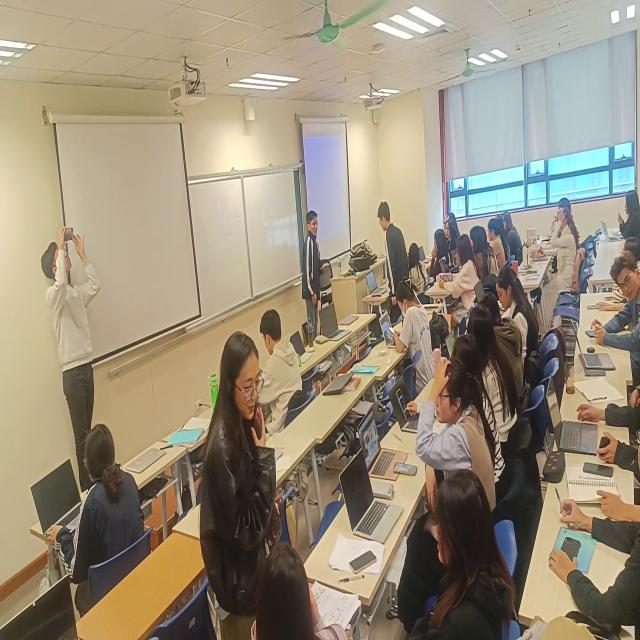raise_head: (414, 466, 515, 640), (421, 344, 500, 512), (256, 536, 329, 640), (468, 304, 518, 437), (553, 208, 578, 298), (470, 227, 489, 283), (502, 210, 521, 262), (430, 227, 450, 275), (445, 219, 459, 251), (448, 213, 457, 223)
stand: (198, 325, 276, 613), (37, 217, 102, 465), (299, 205, 328, 348), (378, 198, 410, 311)
using_computer: (36, 419, 148, 586)
using_phone: (389, 280, 432, 387), (437, 235, 480, 310), (394, 378, 423, 426), (617, 186, 640, 245)
